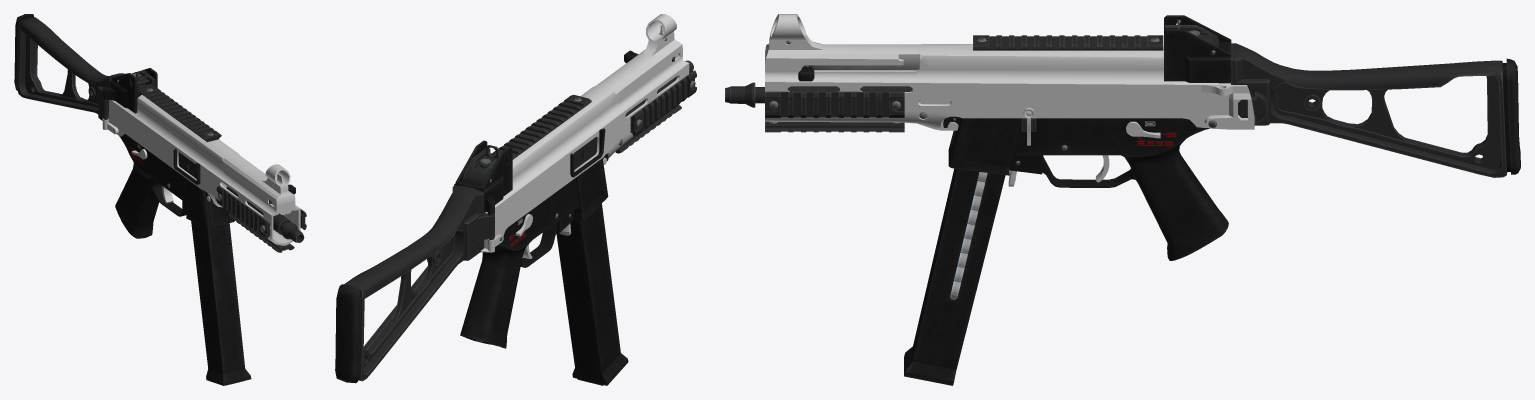
3 views of the same model, side by side, from view 1: azimuth 30°, elevation 25°; view 2: azimuth 150°, elevation 25°; view 3: azimuth 270°, elevation 25° (orthographic). The views are drawn at different scales.
Parts seen in each view (by area): view 1: Korpus_verx.002, Magazin.002, Korpus_niz.002, Priklad.002, Planka.002, Pricel.002, Stvol.002, Zatvor.003, Celik.003; view 2: Korpus_verx.002, Priklad.002, Korpus_niz.002, Magazin.002, Planka.002, Pricel.002, Zatvor.003, Celik.003; view 3: Korpus_verx.002, Korpus_niz.002, Priklad.002, Magazin.002, Planka.002, Pricel.002, Stvol.002, Zatvor.003, Patron.003.
Part boxes in pixels (x1,y1,x2,y2): Korpus_verx.002: (102, 95, 300, 245); Magazin.002: (191, 221, 251, 385); Korpus_niz.002: (115, 133, 234, 238); Priklad.002: (14, 14, 125, 120); Planka.002: (138, 86, 306, 252); Pricel.002: (102, 68, 157, 113); Stvol.002: (226, 186, 304, 242); Zatvor.003: (173, 148, 295, 194); Celik.003: (132, 70, 155, 88); Korpus_verx.002: (443, 14, 689, 252); Priklad.002: (335, 185, 494, 383); Korpus_niz.002: (460, 154, 608, 348); Magazin.002: (556, 203, 628, 385); Planka.002: (492, 70, 696, 159); Pricel.002: (454, 140, 512, 214); Zatvor.003: (570, 50, 638, 177); Celik.003: (463, 145, 499, 183); Korpus_verx.002: (765, 14, 1254, 145); Korpus_niz.002: (943, 116, 1228, 260); Priklad.002: (1231, 43, 1520, 177); Magazin.002: (904, 168, 1005, 385); Planka.002: (765, 35, 1163, 132); Pricel.002: (1164, 15, 1231, 83); Stvol.002: (725, 82, 912, 107); Zatvor.003: (798, 54, 919, 81); Patron.003: (951, 172, 987, 295).
Bounding box in the file's own units: 37.86 × 210 × 418.
